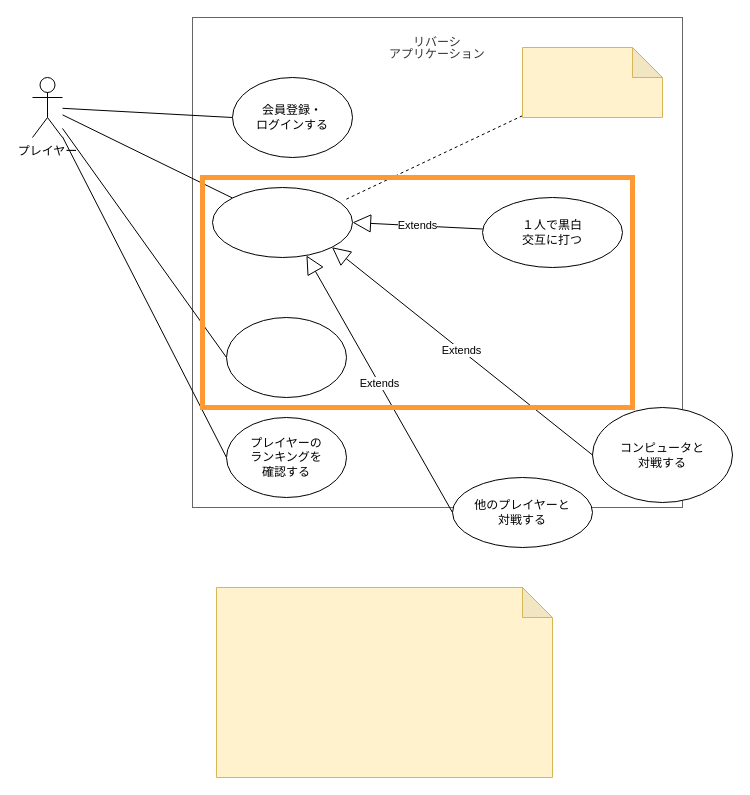
The diagram is 750 pixels wide and 795 high, and some of its shapes have lost their labels. Each missing label, with the centre of its shape:
・対戦を開始する ・盤面を見る ・石を打つ ・勝敗を確認する: (x=592, y=82)
対戦する: (x=282, y=222)
粒度メモ システムを触り始めてから離れるまでの一連の単位: (x=384, y=682)
自分の 過去の対戦結果を 確認する: (x=286, y=357)
